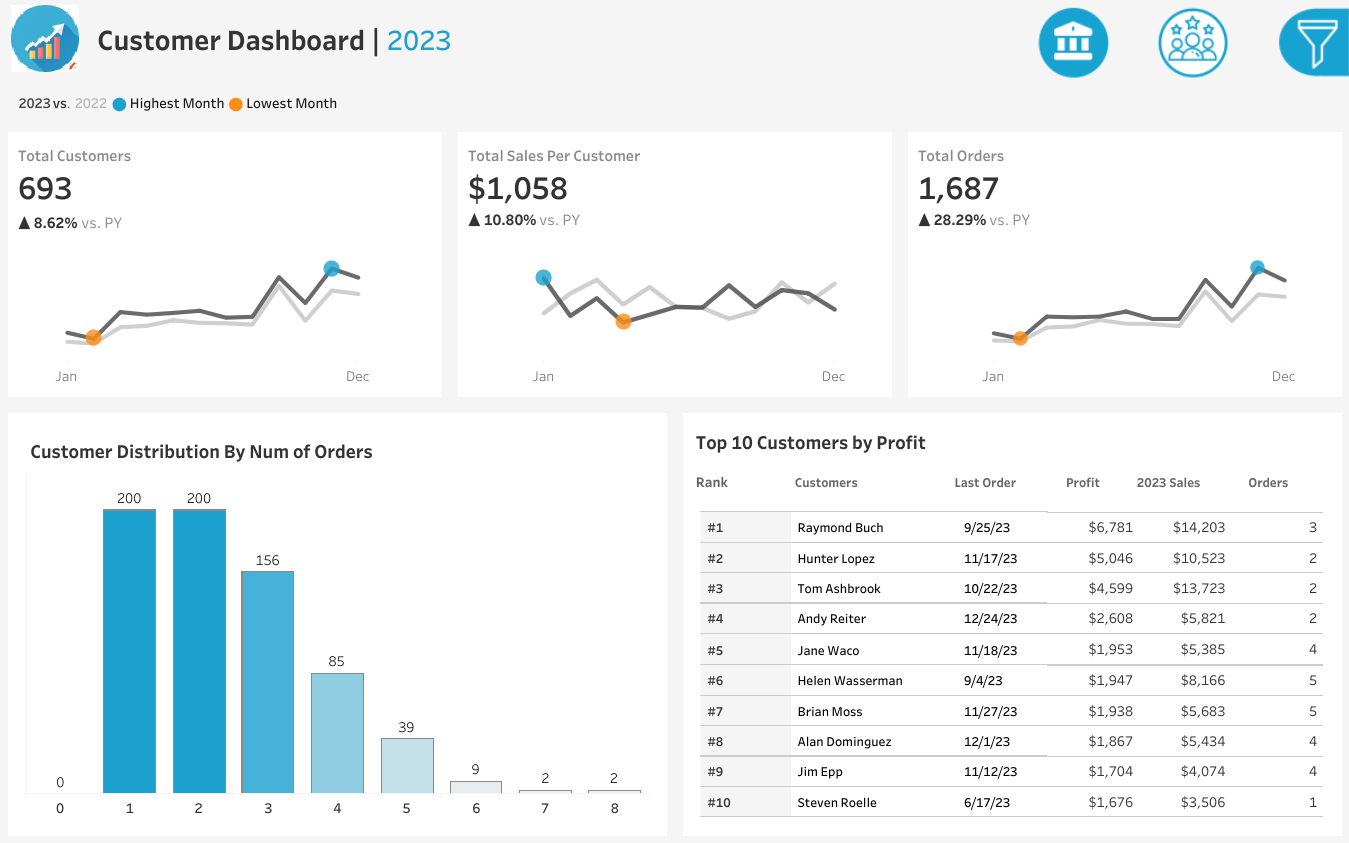

The page's visual inventory and layout, read from the dashboard file:
{"tool":"tableau","page":{"name":"Customer Dashboard","canvas":[1200,750],"ordinal":0},"visuals":[{"type":"image","param":"Image/craiyon_094129_Business_growth_icon.png","box":[0,0,80,68]},{"type":"text","box":[80,0,795,68]},{"type":"dashboard-object","box":[901,2,107,72]},{"type":"dashboard-object","box":[1008,2,106,72]},{"type":"blank","box":[921,6,273,80]},{"type":"worksheet","title":"KPI","mark":"Automatic","box":[0,68,1200,47]},{"type":"text","box":[921,86,273,41]},{"type":"worksheet","title":"Total Customers","mark":"Line","rows":["Calculation_776308011167195175"],"cols":["Order Date"],"box":[0,115,400,245]},{"type":"worksheet","title":"Total Sales Per Customer","mark":"Line","rows":["Calculation_776308011205972009"],"cols":["Order Date"],"box":[400,115,400,245]},{"type":"worksheet","title":"Total Orders","mark":"Line","rows":["Min/Max Customers (copy)_776308011247509557"],"cols":["Order Date"],"box":[800,115,400,245]},{"type":"parameter","param":"[Parameters].[Parameter 1]","box":[921,127,273,71]},{"type":"text","box":[921,198,273,33]},{"type":"filter","title":"KPI","param":"[federated.1764sfg0756ik61bb0jh71vi3x3n].[none:Category:nk]","box":[921,231,273,70]},{"type":"filter","title":"KPI","param":"[federated.1764sfg0756ik61bb0jh71vi3x3n].[none:Sub-Category:nk]","box":[921,301,273,70]},{"type":"blank","box":[921,371,273,32]},{"type":"worksheet","title":"Customer Distribution","mark":"Automatic","rows":["Calculation_776308010921488412"],"cols":["Calculation_776308011294052406"],"box":[12,372,576,366]},{"type":"text","box":[612,372,576,40]},{"type":"text","box":[921,403,273,33]},{"type":"text","box":[612,412,88,32]},{"type":"text","box":[700,412,142,32]},{"type":"text","box":[842,412,99,32]},{"type":"text","box":[941,412,63,32]},{"type":"text","box":[1004,412,99,32]},{"type":"text","box":[1103,412,85,32]},{"type":"filter","title":"KPI","param":"[federated.1764sfg0756ik61bb0jh71vi3x3n].[none:Region:nk]","box":[921,436,273,70]},{"type":"worksheet","title":"Top 10 Customers","mark":"Automatic","rows":["Calculation_776308011299897401","Customer Name","Order Date"],"box":[612,444,576,294]},{"type":"filter","title":"KPI","param":"[federated.1764sfg0756ik61bb0jh71vi3x3n].[none:State:nk]","box":[921,506,273,70]},{"type":"filter","title":"KPI","param":"[federated.1764sfg0756ik61bb0jh71vi3x3n].[none:City:nk]","box":[921,576,273,70]}]}

Visuals, with their boxes in screenshot pixels (x1, y1, x2, y2), scaled from the page's 1200x750 canvas onto the 1349x843 screenshot:
image: region(0, 0, 90, 76)
text: region(90, 0, 984, 76)
dashboard-object: region(1013, 2, 1133, 83)
dashboard-object: region(1133, 2, 1252, 83)
blank: region(1035, 7, 1342, 97)
"KPI" worksheet: region(0, 76, 1348, 129)
text: region(1035, 97, 1342, 143)
"Total Customers" worksheet (Line marks): region(0, 129, 450, 405)
"Total Sales Per Customer" worksheet (Line marks): region(450, 129, 899, 405)
"Total Orders" worksheet (Line marks): region(899, 129, 1348, 405)
parameter: region(1035, 143, 1342, 223)
text: region(1035, 223, 1342, 260)
"KPI" filter: region(1035, 260, 1342, 338)
"KPI" filter: region(1035, 338, 1342, 417)
blank: region(1035, 417, 1342, 453)
"Customer Distribution" worksheet: region(13, 418, 661, 830)
text: region(688, 418, 1336, 463)
text: region(1035, 453, 1342, 490)
text: region(688, 463, 787, 499)
text: region(787, 463, 947, 499)
text: region(947, 463, 1058, 499)
text: region(1058, 463, 1129, 499)
text: region(1129, 463, 1240, 499)
text: region(1240, 463, 1336, 499)
"KPI" filter: region(1035, 490, 1342, 569)
"Top 10 Customers" worksheet: region(688, 499, 1336, 830)
"KPI" filter: region(1035, 569, 1342, 647)
"KPI" filter: region(1035, 647, 1342, 726)
